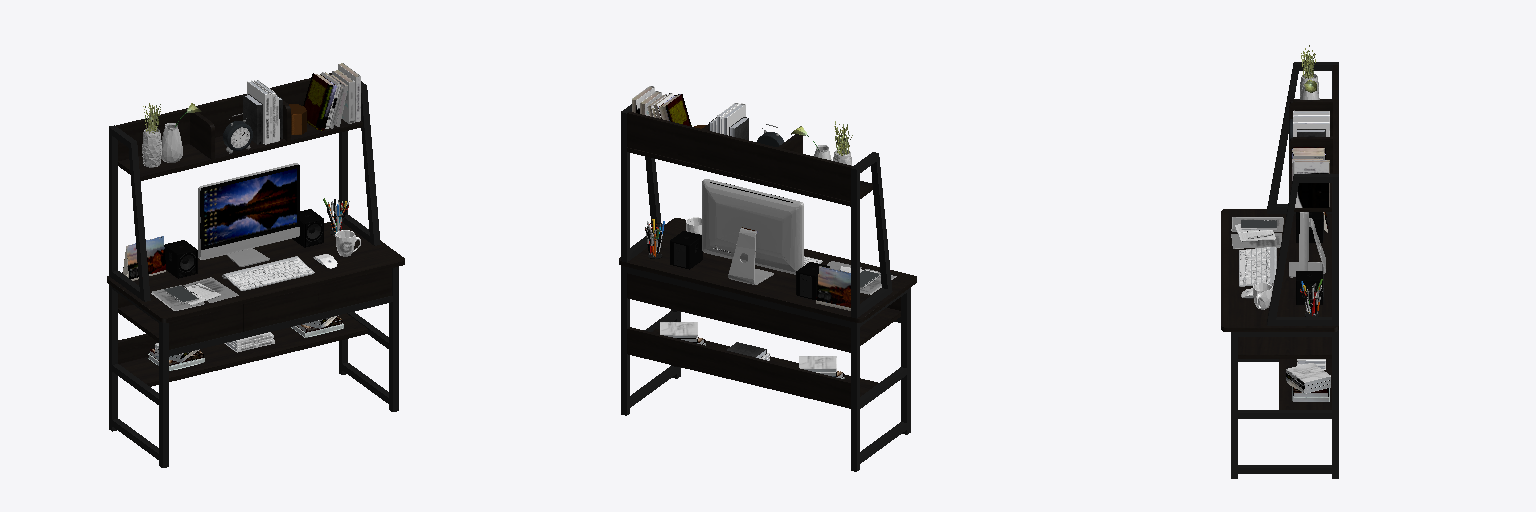
3 renders of one model, left to right at view 1: azimuth 30°, elevation 25°; view 2: azimuth 150°, elevation 25°; view 3: azimuth 270°, elevation 25°, orthographic.
Visible parts, largest first — view 1: solid_001, solid_009, solid_016, solid_013, solid_035, solid_025, solid_091, solid_015, solid_050, solid_081, solid_046, solid_006 (+2 smaller); view 2: solid_001, solid_009, solid_013, solid_014, solid_025, solid_048, solid_086, solid_006, solid_022, solid_091; view 3: solid_001, solid_009, solid_093, solid_025, solid_050, solid_080, solid_087, solid_013, solid_086, solid_004.
Part boxes in pixels (left/top/right/bottom): solid_001: left=107, top=73, right=404, bottom=386; solid_009: left=109, top=81, right=398, bottom=467; solid_016: left=204, top=168, right=296, bottom=246; solid_013: left=198, top=163, right=299, bottom=259; solid_035: left=142, top=123, right=182, bottom=167; solid_025: left=164, top=209, right=323, bottom=278; solid_091: left=303, top=73, right=336, bottom=130; solid_015: left=200, top=165, right=299, bottom=249; solid_050: left=227, top=258, right=312, bottom=289; solid_081: left=237, top=93, right=278, bottom=352; solid_046: left=127, top=236, right=165, bottom=278; solid_006: left=243, top=94, right=282, bottom=144; solid_001: left=619, top=112, right=916, bottom=408; solid_009: left=621, top=104, right=910, bottom=471; solid_013: left=702, top=179, right=803, bottom=274; solid_014: left=728, top=228, right=773, bottom=284; solid_025: left=670, top=231, right=829, bottom=299; solid_048: left=816, top=266, right=850, bottom=307; solid_086: left=660, top=322, right=836, bottom=372; solid_006: left=709, top=117, right=766, bottom=357; solid_022: left=632, top=87, right=679, bottom=120; solid_091: left=658, top=94, right=691, bottom=126; solid_001: left=1221, top=65, right=1338, bottom=409; solid_009: left=1231, top=62, right=1338, bottom=478; solid_093: left=1293, top=160, right=1328, bottom=207; solid_025: left=1296, top=212, right=1322, bottom=304; solid_050: left=1240, top=247, right=1269, bottom=284; solid_080: left=1293, top=111, right=1329, bottom=369; solid_087: left=1286, top=369, right=1330, bottom=401; solid_013: left=1299, top=212, right=1308, bottom=270; solid_086: left=1286, top=363, right=1330, bottom=385; solid_004: left=1239, top=247, right=1276, bottom=297.
Bounding box in the file's own units: 1.2 × 1.56 × 0.5.
1 materials, 1 textured.